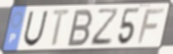5: (116, 7, 141, 46)
B: (65, 8, 94, 48)
F: (136, 7, 166, 45)
T: (50, 8, 73, 49)
U: (22, 10, 50, 48)
Z: (90, 7, 120, 47)
